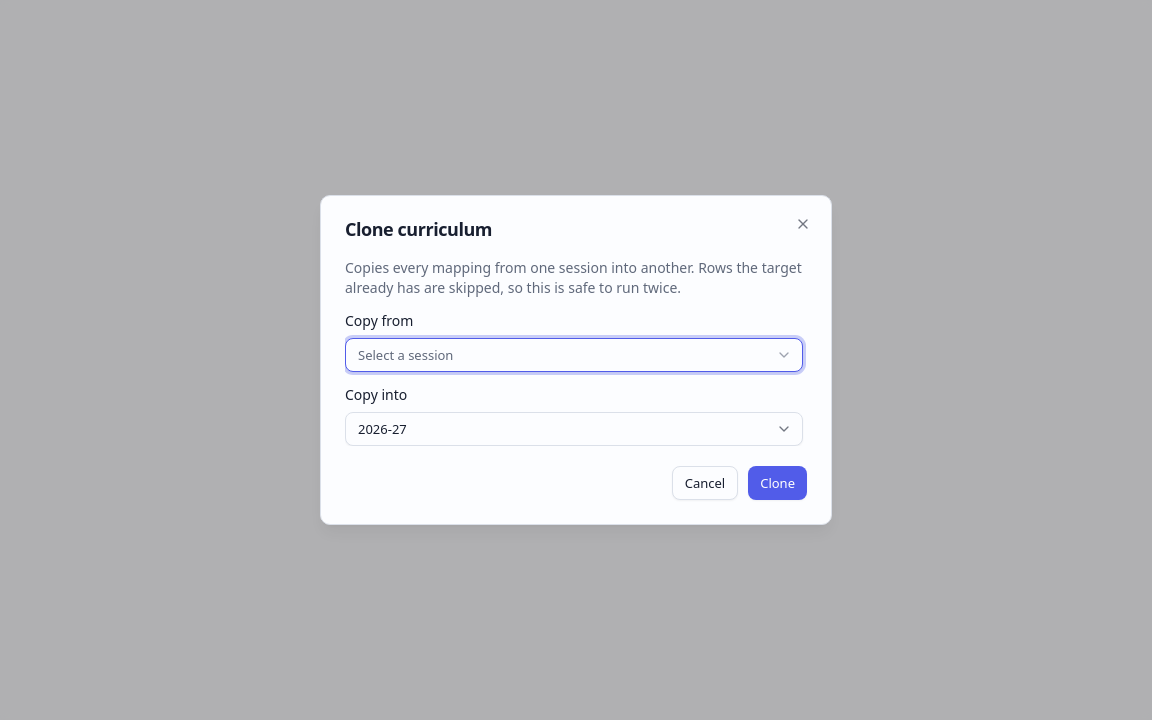
CloneCurriculumDialog › copies from any session but the target, and into a session that isn't locked
Expected: the dropdown named "Copy into" reads "2026-27", [345,412,803,446]
What coordinates should you click on to do the following:
click the dropdown named "Copy from"
I would click on:
 (406, 355)
Its box is [345,338,803,372].
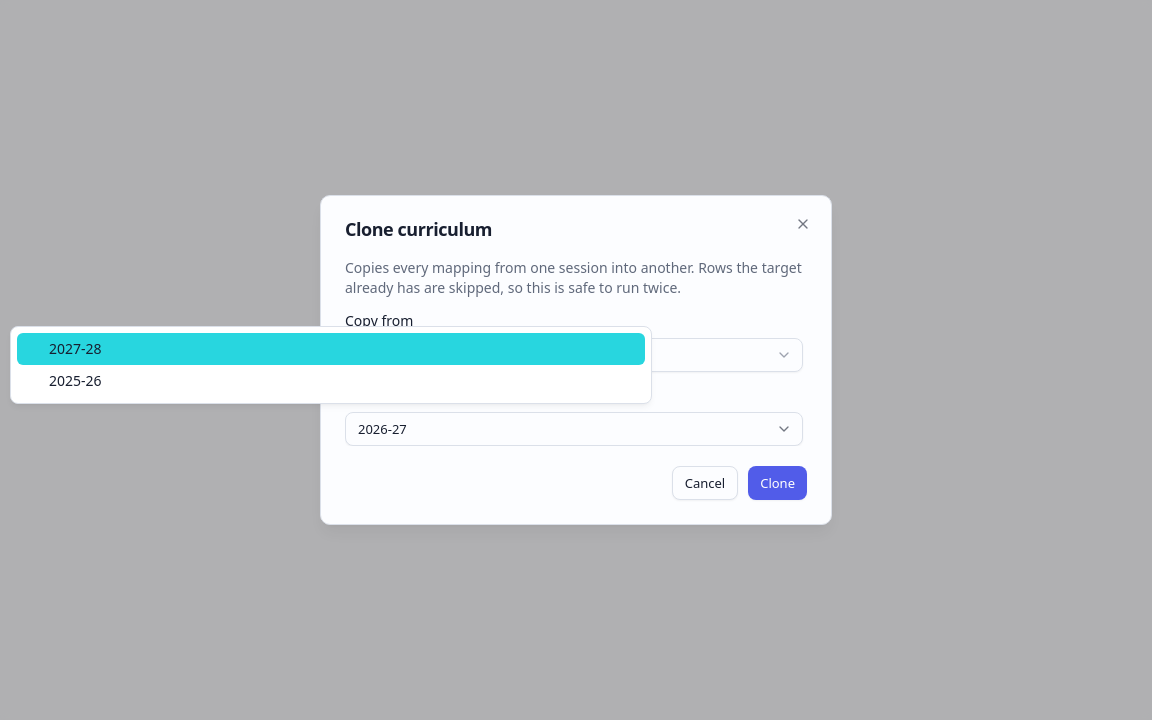
Now the option "2027-28" is shown, box [17,333,645,365]
Now the option "2025-26" is shown
What coordinates should you click on to do the following:
click the option "2025-26"
I would click on:
 (75, 380)
Its box is [49,371,102,390].
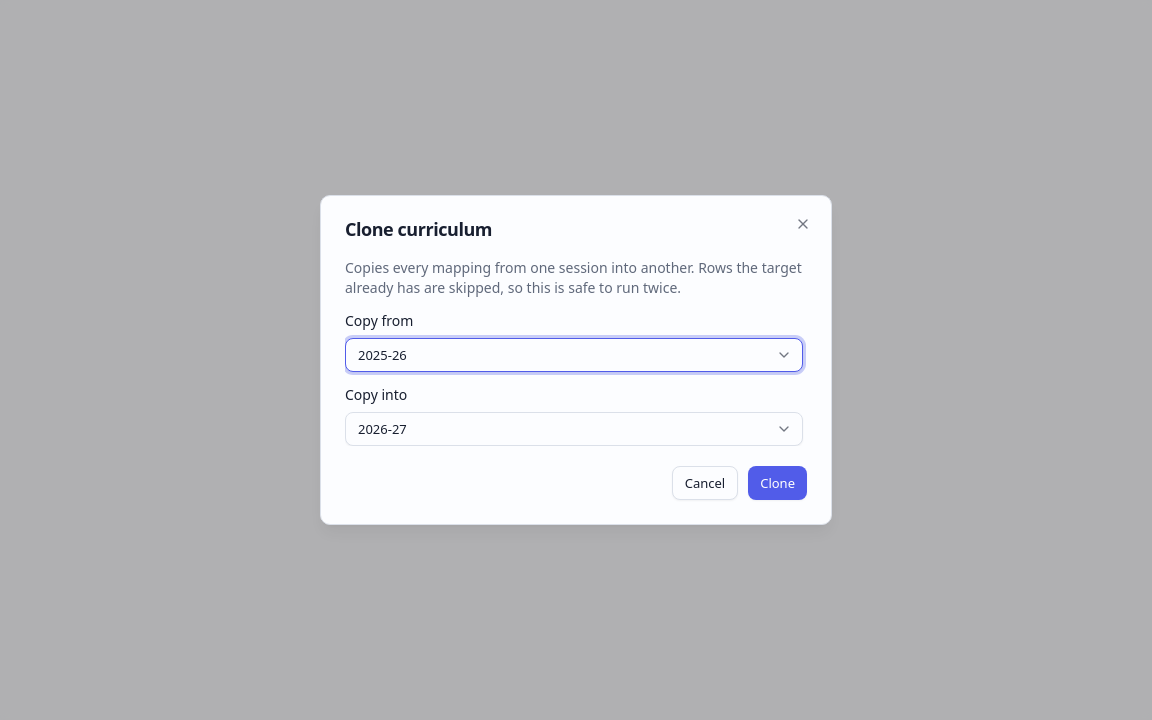
What coordinates should you click on to do the following:
click the dropdown named "Copy into"
I would click on:
 (382, 429)
Its box is [345,412,803,446].
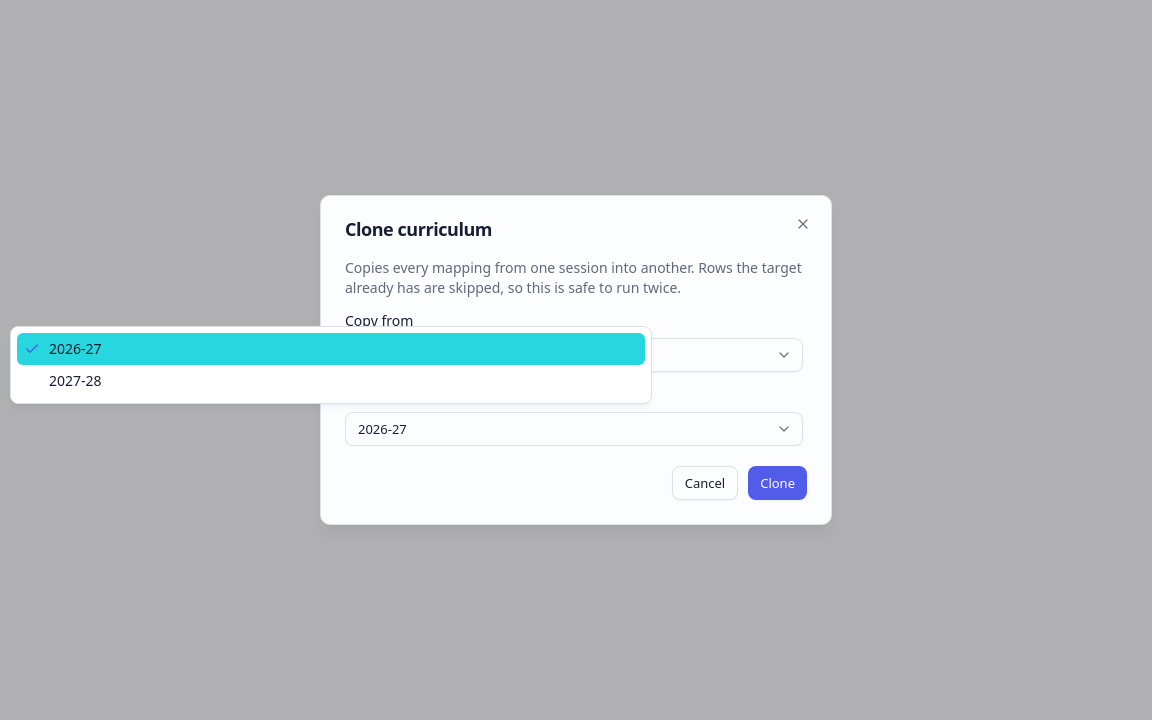
Now the option "2026-27" is shown, box [17,333,645,365]
Now the option "2027-28" is shown, box [49,371,102,390]
